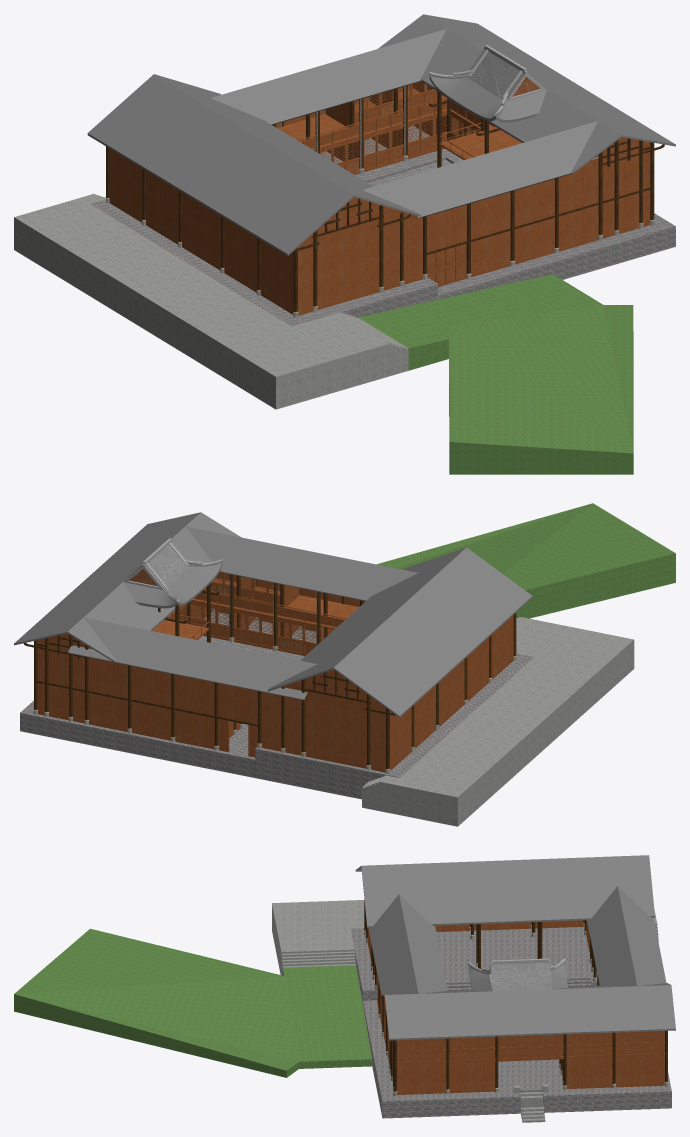
File: temple.glb
The picture shows the model from 3 angles, top to bottom: view 1: azimuth 30°, elevation 25°; view 2: azimuth 150°, elevation 25°; view 3: azimuth 270°, elevation 25°; orthographic projection. The views are drawn at different scales.
Visible parts, largest first — view 1: 关帝庙及基座; view 2: 关帝庙及基座; view 3: 关帝庙及基座.
Part boxes in pixels (x1=…): 关帝庙及基座: x1=14, y1=14, x2=675, y2=474; 关帝庙及基座: x1=14, y1=503, x2=675, y2=826; 关帝庙及基座: x1=14, y1=855, x2=675, y2=1122.
Bounding box in the file's own units: 3.52 × 0.9855 × 4.79.
Materials: 20 (16 with a texture image).
